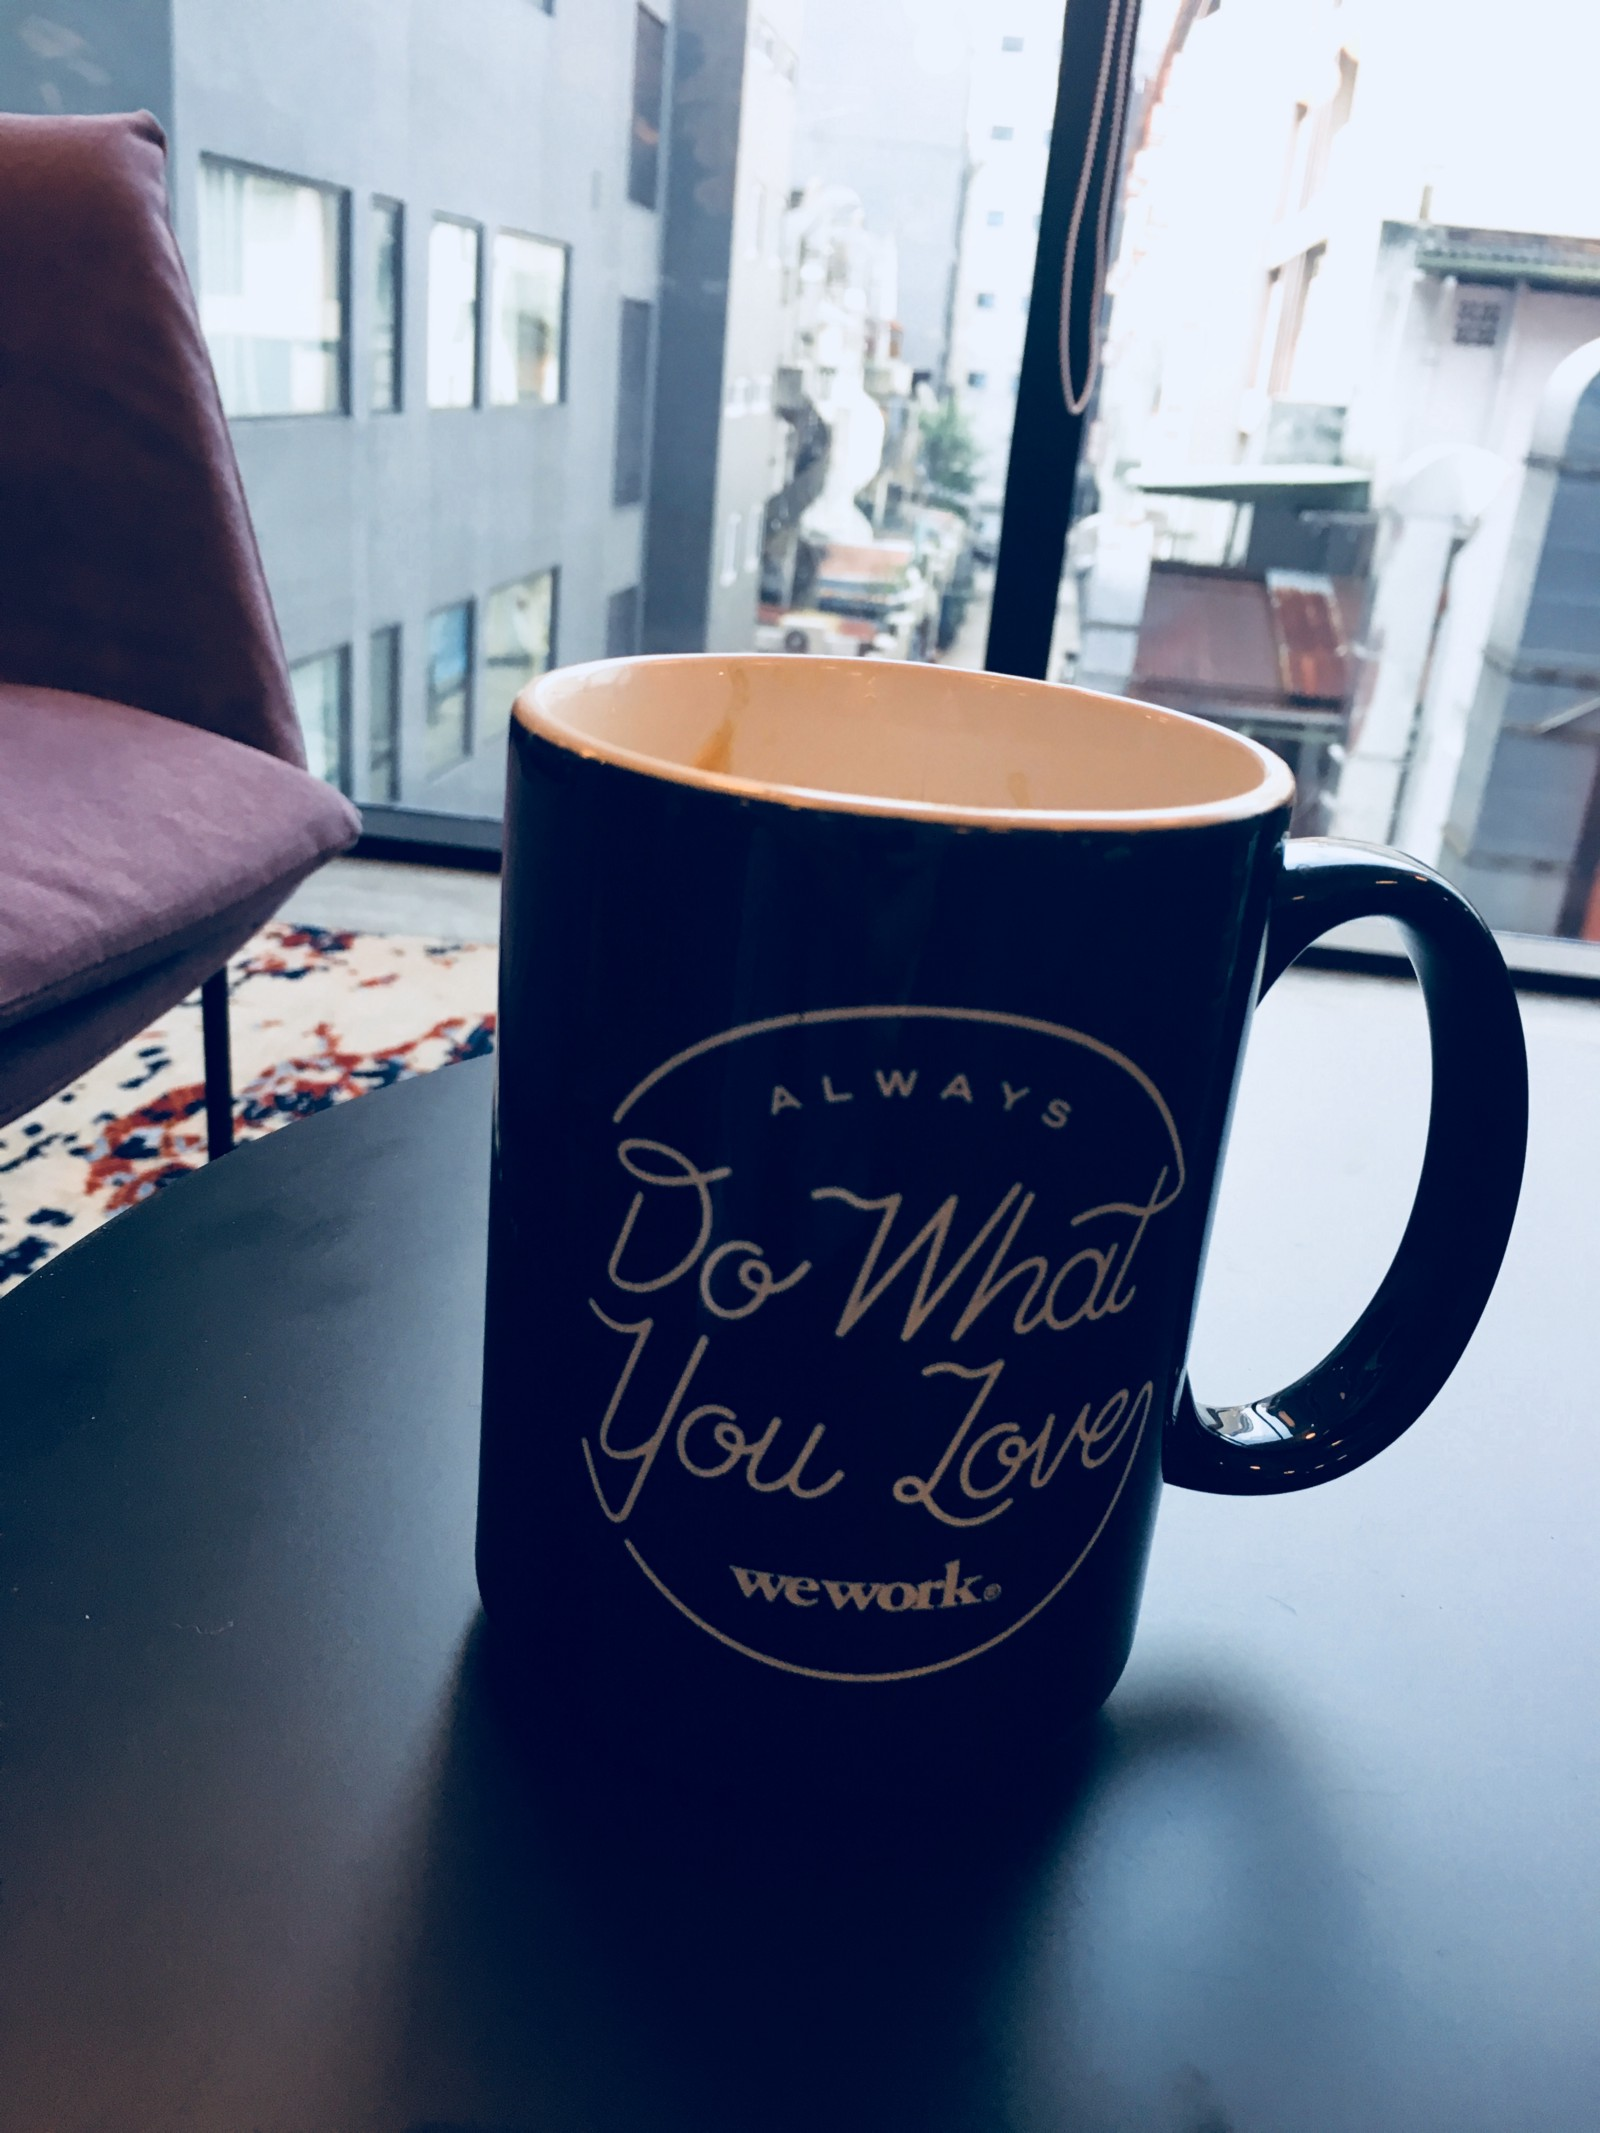wework: (724, 1555, 985, 1614)
